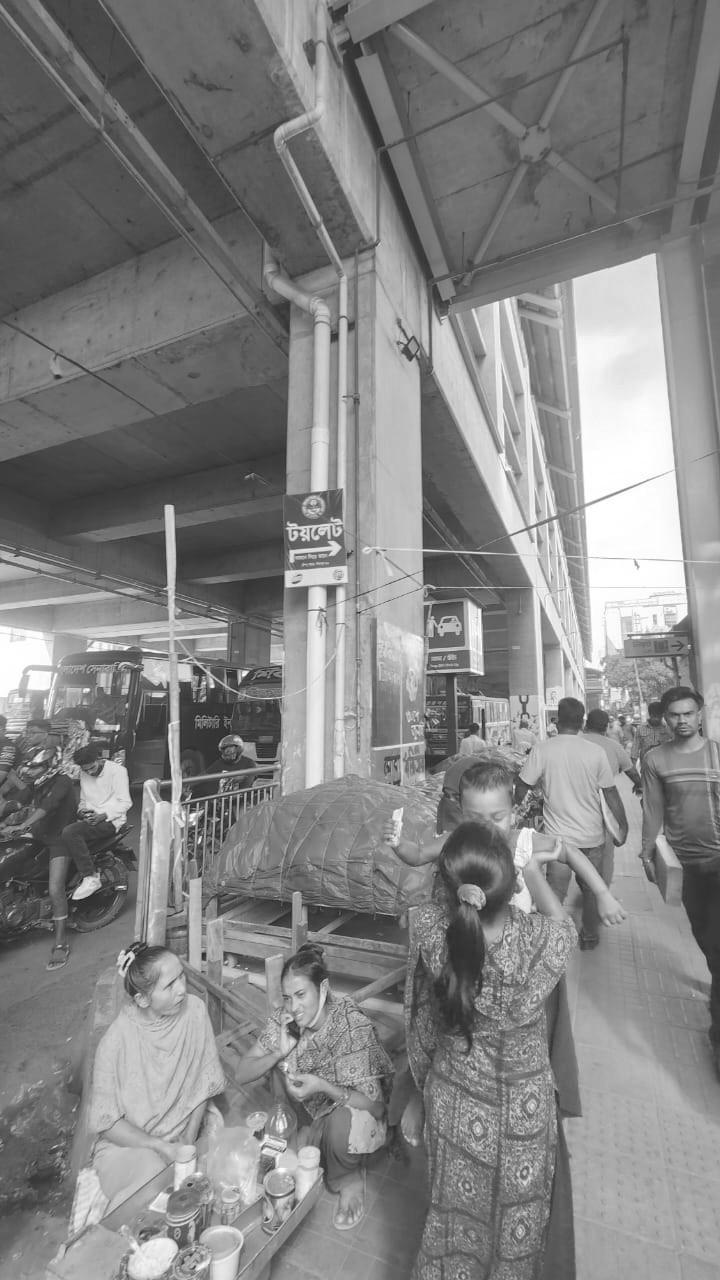Metro Dorp Up Pick up: (425, 597, 484, 679)
